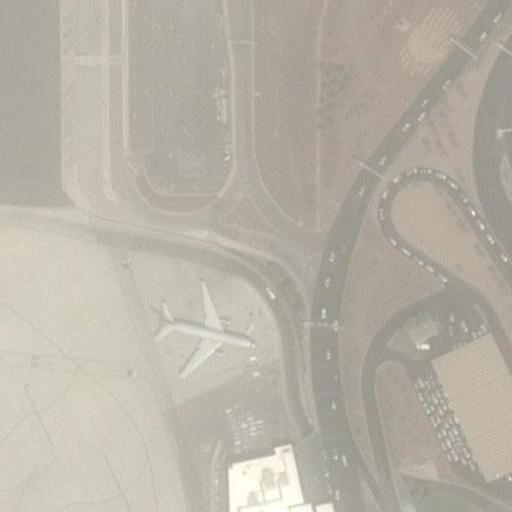Aircraft: (154, 284, 254, 384)
